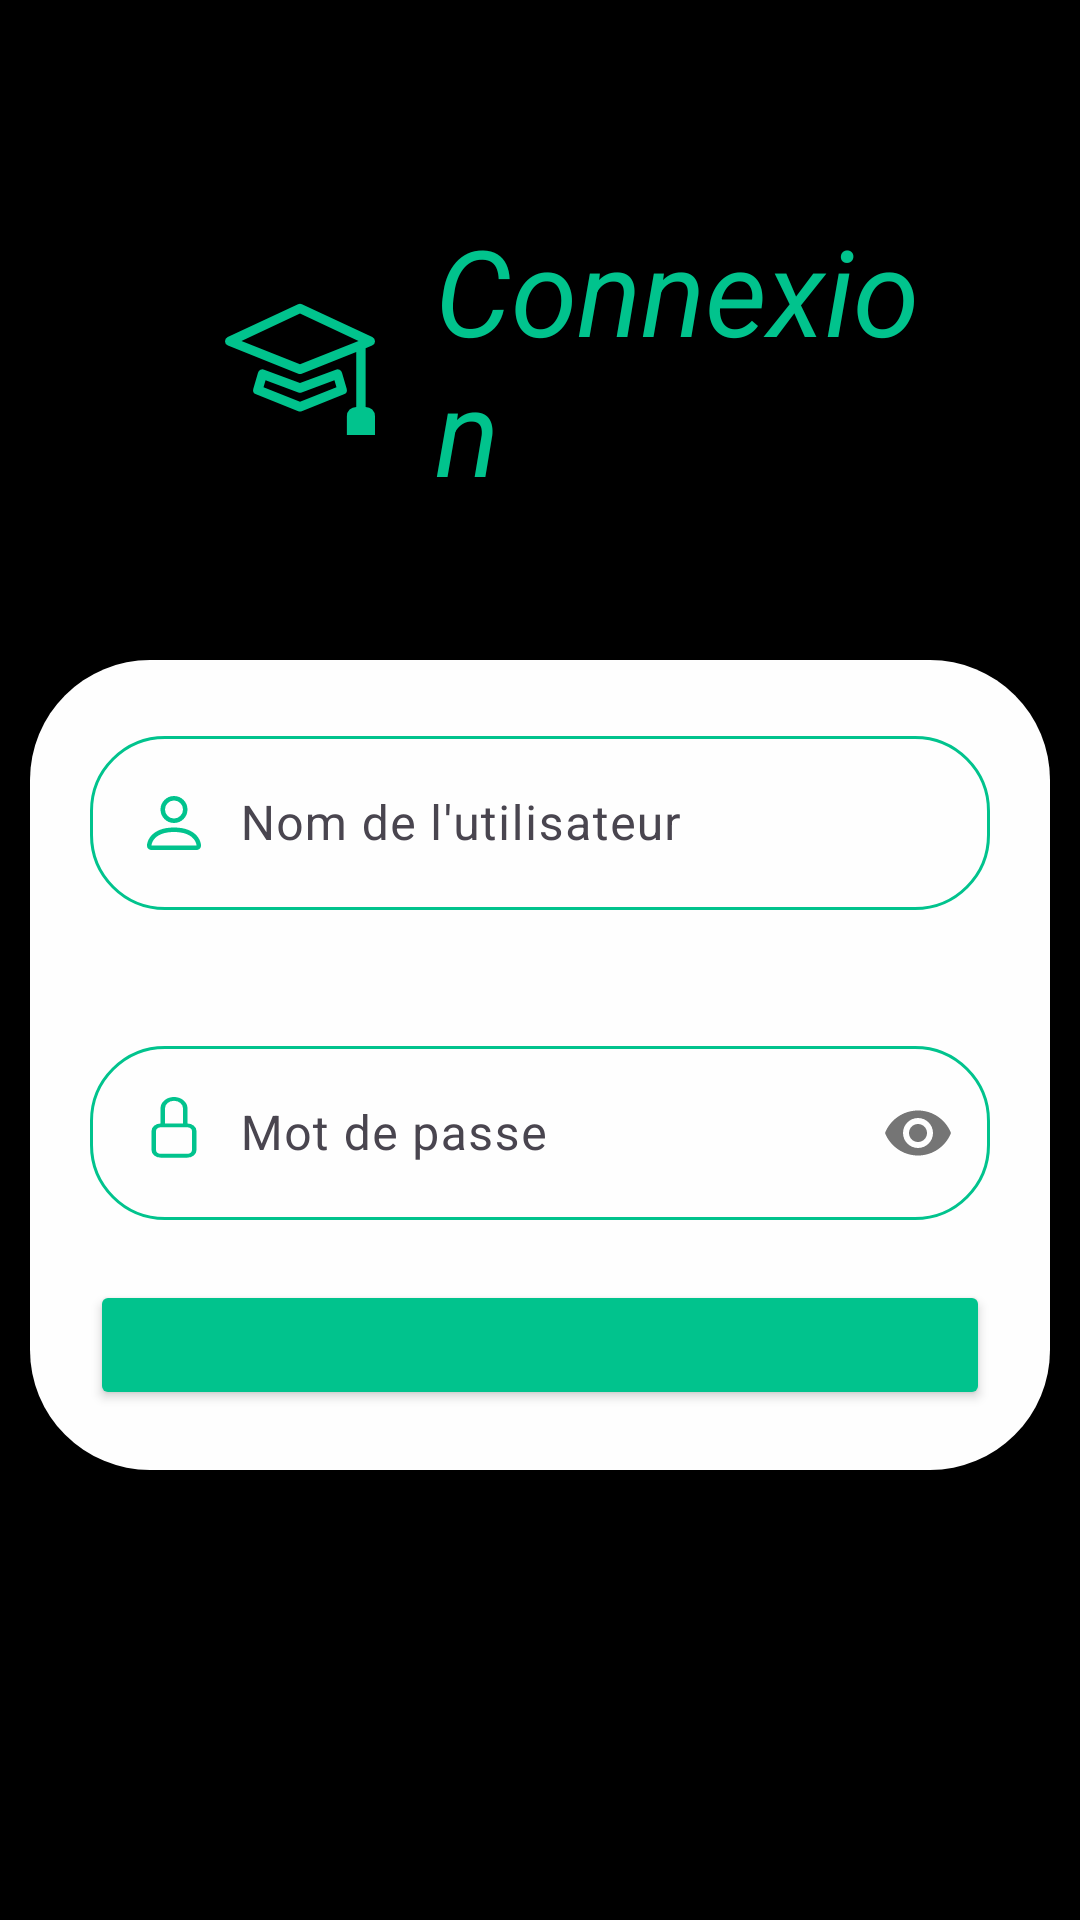

Icons on this 1080px x 1920px Android screen, each with its box as [x1=x1, y1=y1, x2=x2, y2=y2]:
mortarboard: [x1=225, y1=304, x2=375, y2=435]
